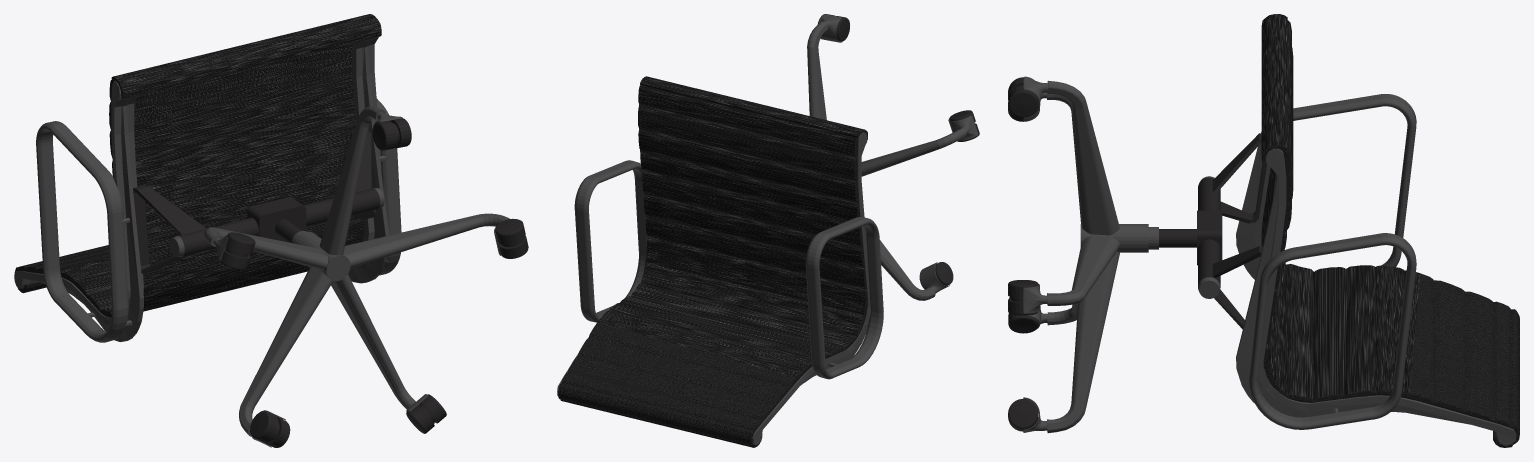
Rendered from original_mesh_orient_10_rot_180_y.glb.
The picture shows the model from 3 angles, left to right: view 1: azimuth 30°, elevation 25°; view 2: azimuth 150°, elevation 25°; view 3: azimuth 270°, elevation 25°; orthographic projection. The views are drawn at different scales.
Visible parts, largest first — view 1: world; view 2: world; view 3: world.
Part boxes in pixels (left/top/right/bottom): world: left=14, top=14, right=528, bottom=447; world: left=557, top=14, right=979, bottom=447; world: left=1008, top=14, right=1519, bottom=447.
Size of the model in its own units: 0.5048 by 0.5057 by 0.6996.
1 material, 1 textured.
